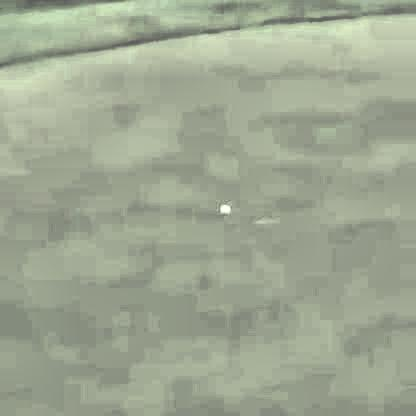golfball: (216, 204, 229, 214)
